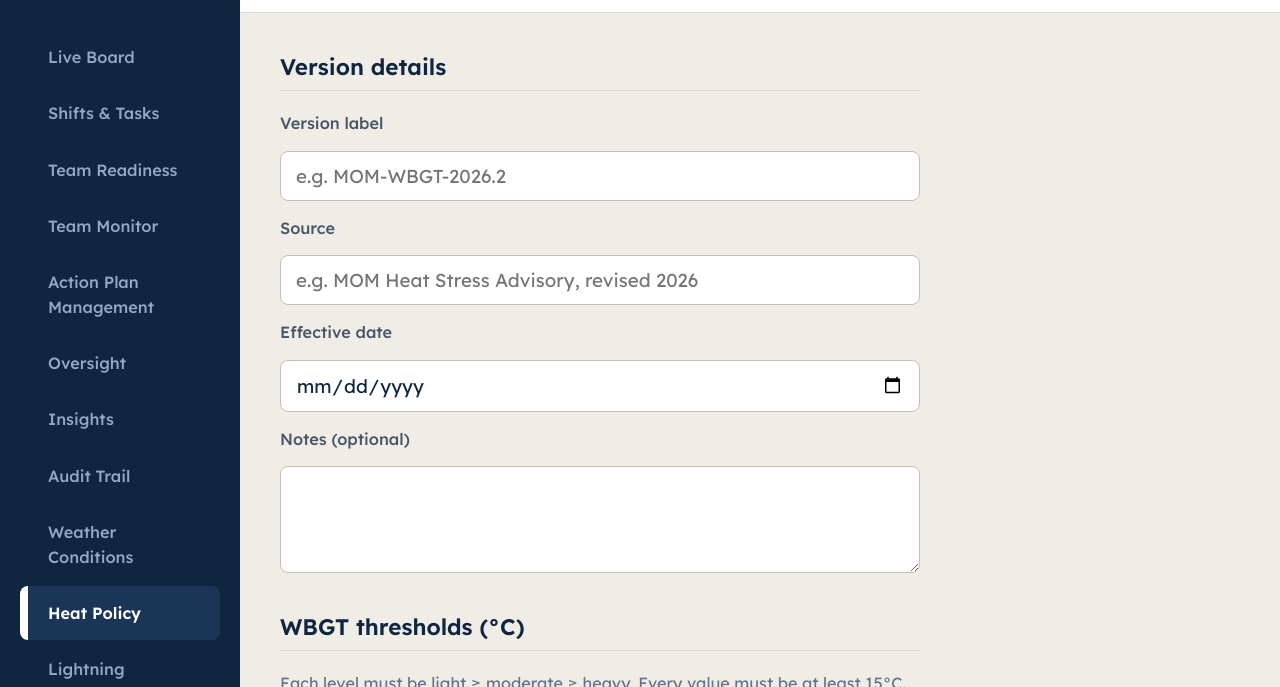
Test: CreatePolicyVersionForm › AC — blocks submission with no effective date
Type "MOM-WBGT-2026.4" into the field labelled "Version label" at (600, 176), box [280,151,920,201]
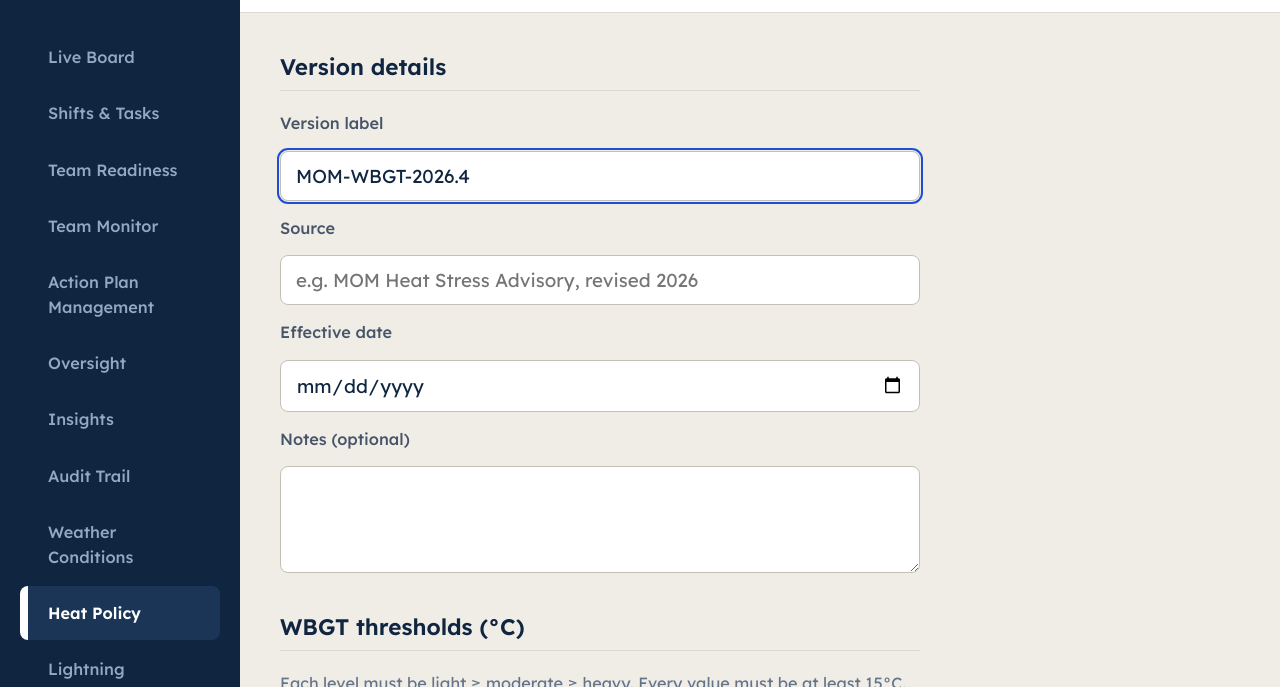
Type "MOM Heat Stress Advisory" into the field labelled "Source" at (600, 280), box [280,255,920,305]
(page scrolled)
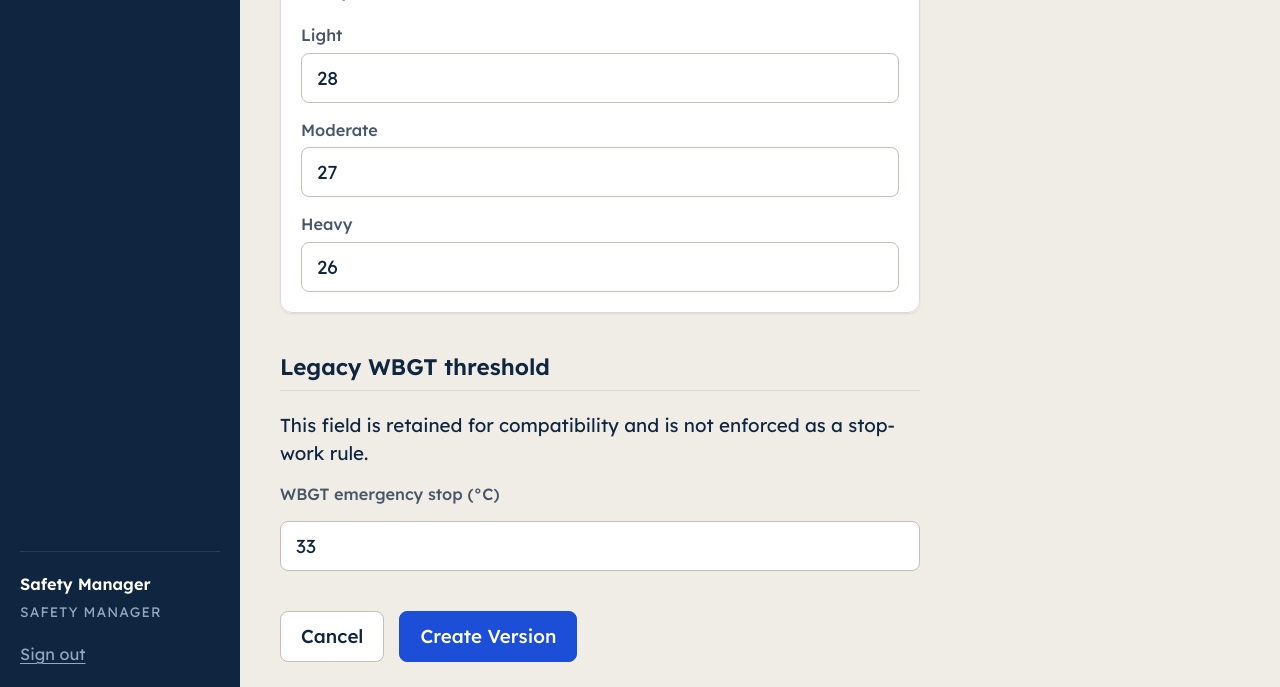
Click the button "Create Version" at (488, 636), box [399,611,577,662]
(page scrolled)
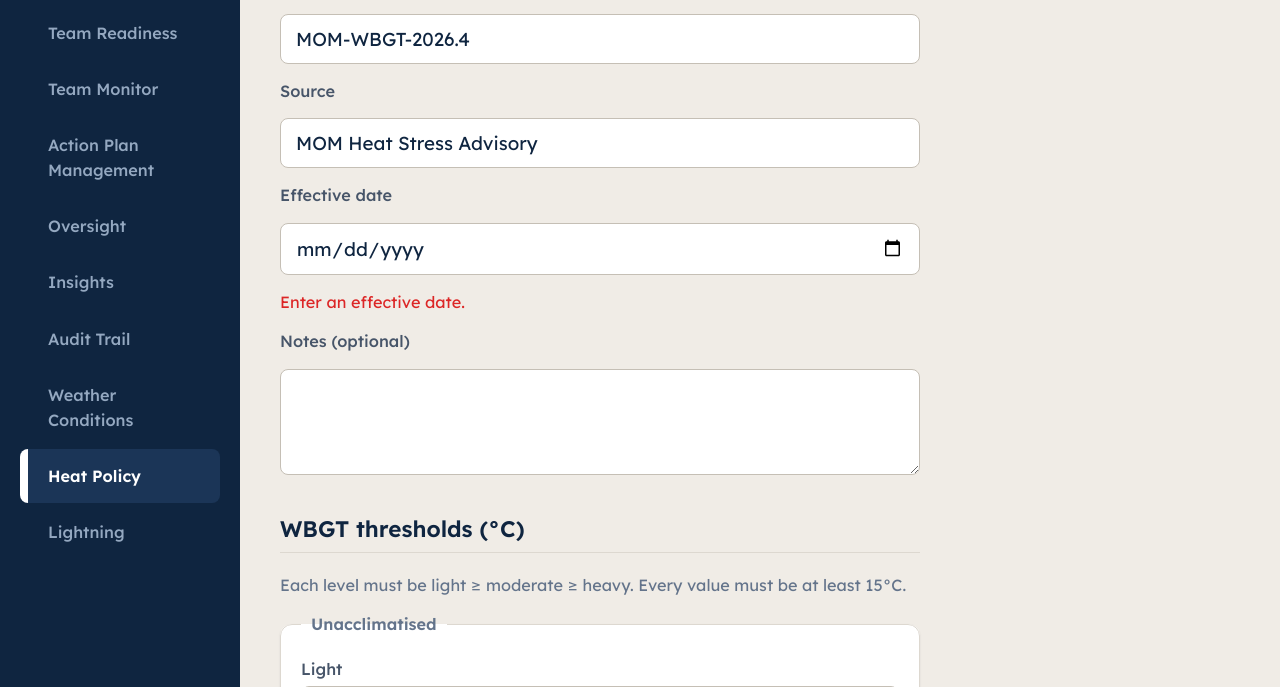
expect the text "Enter an effective date." is shown: met, box [280,292,465,312]
